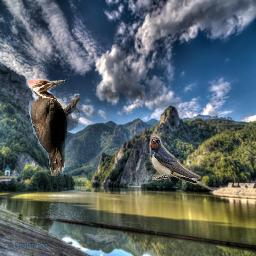Swallow: (150, 134, 215, 190)
Woodpecker: (26, 78, 80, 176)
